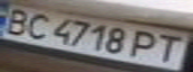1: (87, 20, 109, 53)
4: (45, 16, 75, 46)
7: (66, 18, 90, 48)
8: (106, 24, 133, 56)
B: (0, 4, 36, 36)
C: (18, 10, 54, 39)
P: (127, 27, 163, 60)
T: (148, 32, 190, 63)
